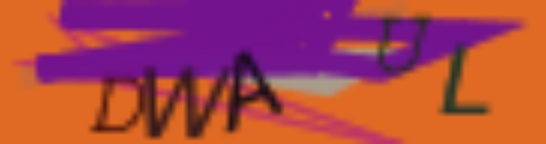A: (225, 47, 286, 135)
D: (88, 76, 145, 135)
L: (437, 41, 493, 116)
U: (375, 15, 433, 76)
W: (142, 66, 229, 141)
